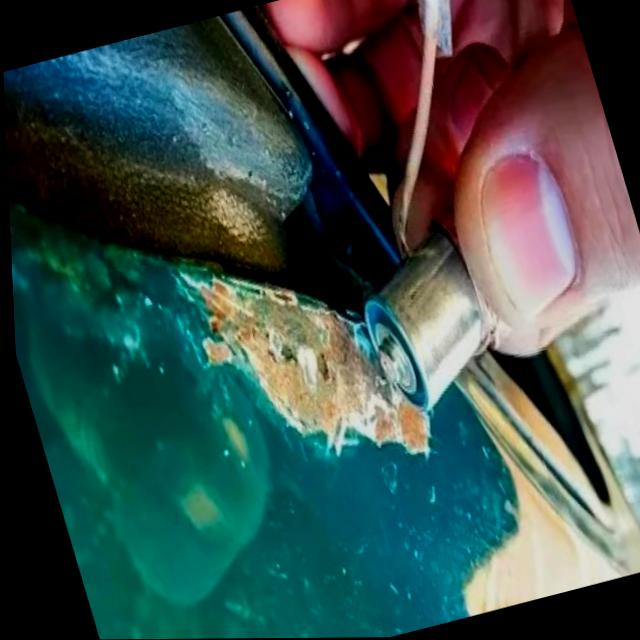Rust: (166, 260, 430, 462)
